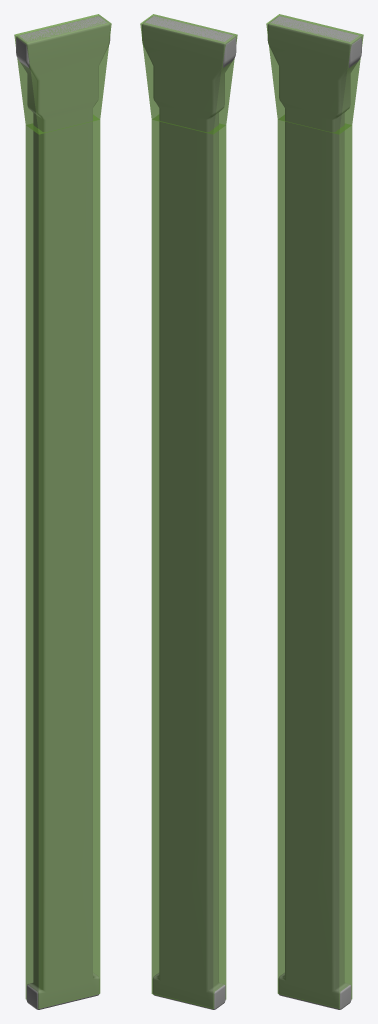
The model's file is M_md_StallWall_end_03.fbx.
The picture shows the model from 3 angles, left to right: view 1: azimuth 30°, elevation 25°; view 2: azimuth 150°, elevation 25°; view 3: azimuth 330°, elevation 25°; orthographic projection.
Visible parts, largest first — view 1: M_md_StallWall_end_03_col_01, M_md_StallWall_end_03, M_md_StallWall_end_03_col_02; view 2: M_md_StallWall_end_03_col_01, M_md_StallWall_end_03, M_md_StallWall_end_03_col_02; view 3: M_md_StallWall_end_03_col_01, M_md_StallWall_end_03, M_md_StallWall_end_03_col_02.
Boxes of the visible parts, x1,y1,x2,y2 form: M_md_StallWall_end_03_col_01: (25,115,100,1008); M_md_StallWall_end_03: (16,16,110,1009); M_md_StallWall_end_03_col_02: (14,14,111,134); M_md_StallWall_end_03_col_01: (151,115,226,1008); M_md_StallWall_end_03: (142,16,236,1009); M_md_StallWall_end_03_col_02: (140,14,237,134); M_md_StallWall_end_03_col_01: (277,115,352,1008); M_md_StallWall_end_03: (267,16,361,1009); M_md_StallWall_end_03_col_02: (266,14,363,134).
Bounding box in the file's own units: 36.43 × 400 × 9.78.
